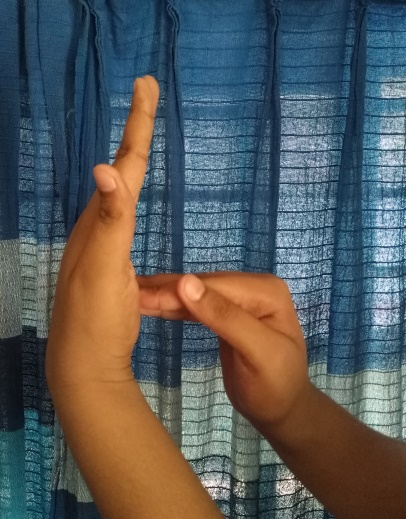ga: (43, 75, 315, 415)
